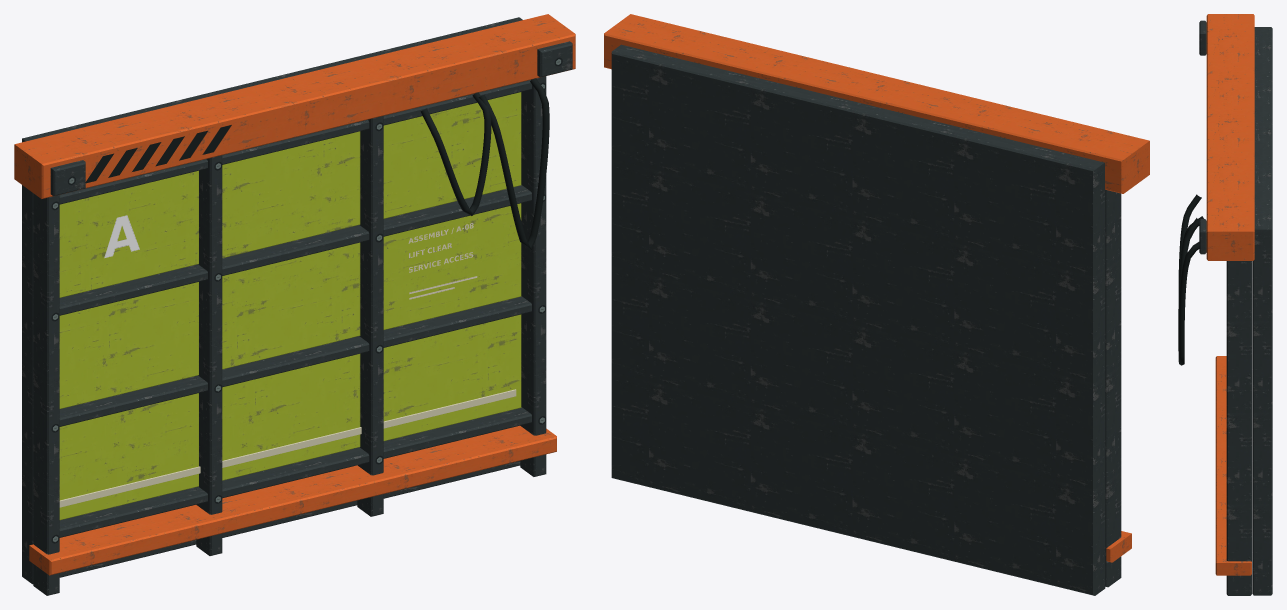
Rendered from factory-a08-proof-wall-bay-v1.glb.
The picture shows the model from 3 angles, left to right: view 1: azimuth 30°, elevation 25°; view 2: azimuth 150°, elevation 25°; view 3: azimuth 270°, elevation 25°; orthographic projection. The views are drawn at different scales.
Parts seen in each view (by area): view 1: wall:lime, wall:charcoal, wall:orange, detail:rubber, wall:ivory, wall:rubber, wall:bolt-detail, wall:stencil, wall:ink; view 2: wall:charcoal, wall:orange; view 3: wall:charcoal, wall:orange, detail:rubber.
Part boxes in pixels (bbox=[...]): wall:lime: bbox=[59, 92, 521, 520]; wall:charcoal: bbox=[22, 17, 572, 595]; wall:orange: bbox=[14, 14, 575, 575]; detail:rubber: bbox=[420, 78, 549, 249]; wall:ivory: bbox=[59, 389, 516, 507]; wall:rubber: bbox=[85, 125, 231, 183]; wall:bolt-detail: bbox=[51, 57, 562, 543]; wall:stencil: bbox=[408, 223, 477, 299]; wall:ink: bbox=[104, 215, 139, 258]; wall:charcoal: bbox=[611, 44, 1121, 595]; wall:orange: bbox=[604, 14, 1149, 562]; wall:charcoal: bbox=[1199, 20, 1272, 595]; wall:orange: bbox=[1206, 14, 1254, 575]; detail:rubber: bbox=[1178, 194, 1203, 365].
Size of the model in its own units: 10.2 by 8.12 by 1.87.
8 materials, 6 textured.
